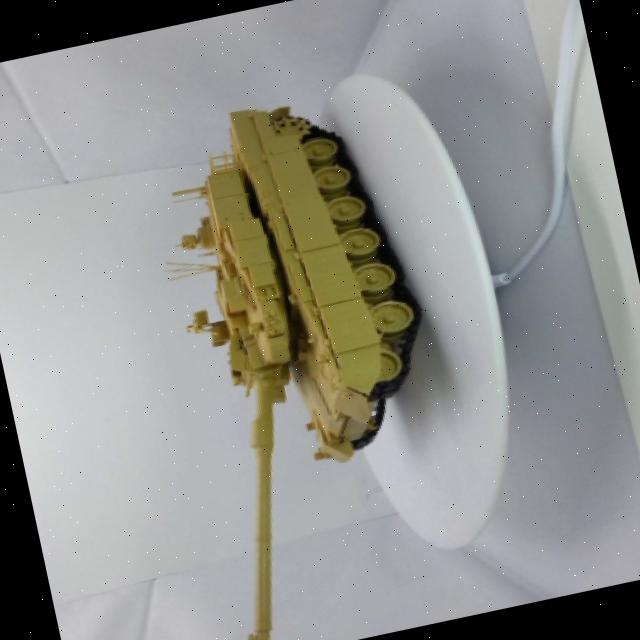korea tank: (117, 39, 493, 640)
